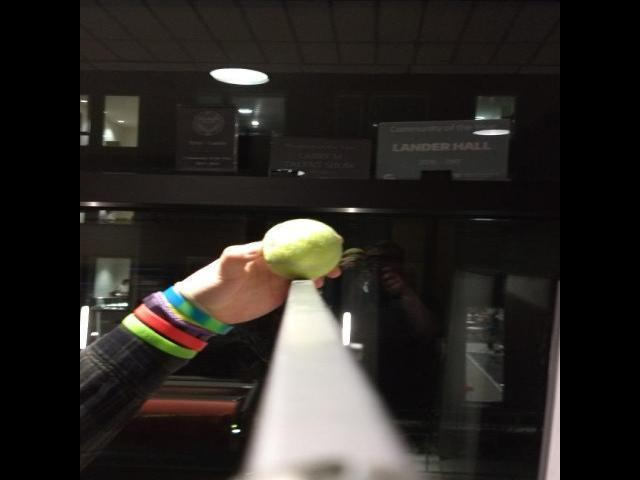tennis-ball: (260, 219, 342, 283)
